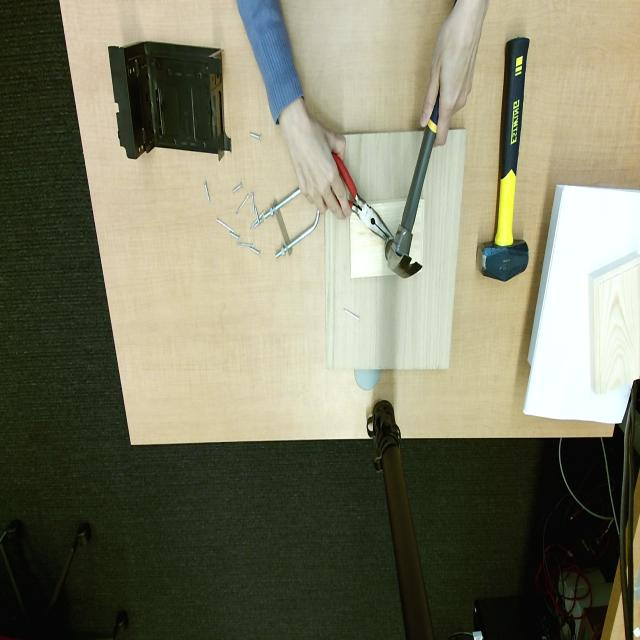hammer: (478, 38, 529, 280), (385, 96, 439, 278)
pliers: (332, 151, 392, 242)
